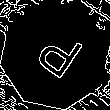P_SW: (25, 23, 85, 87)
